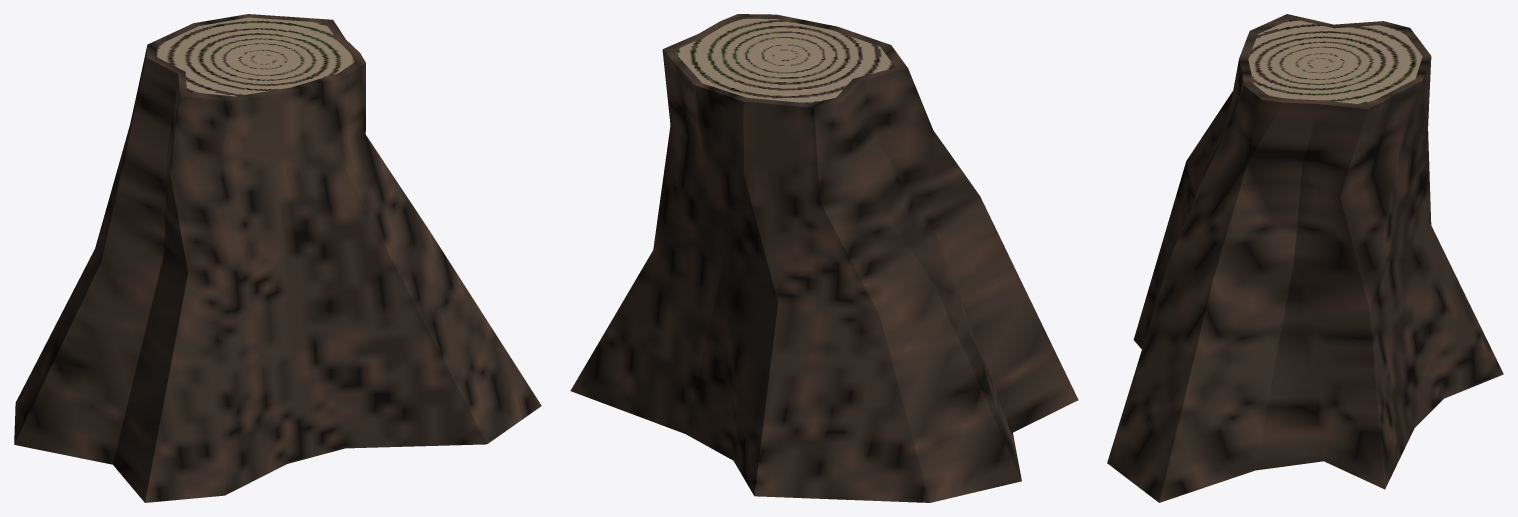
Rendered from DeadTreeAStump.fbx.
3 renders of one model, left to right at view 1: azimuth 30°, elevation 25°; view 2: azimuth 150°, elevation 25°; view 3: azimuth 270°, elevation 25°, orthographic. The views are drawn at different scales.
Parts seen in each view (by area): view 1: PT_Fruit_Tree_01_stump; view 2: PT_Fruit_Tree_01_stump; view 3: PT_Fruit_Tree_01_stump.
Boxes of the visible parts, <box> form: PT_Fruit_Tree_01_stump: <box>14,14,541,502</box>; PT_Fruit_Tree_01_stump: <box>570,14,1078,502</box>; PT_Fruit_Tree_01_stump: <box>1107,14,1503,502</box>.
Size of the model in its own units: 1.86 by 1.38 by 1.45.
